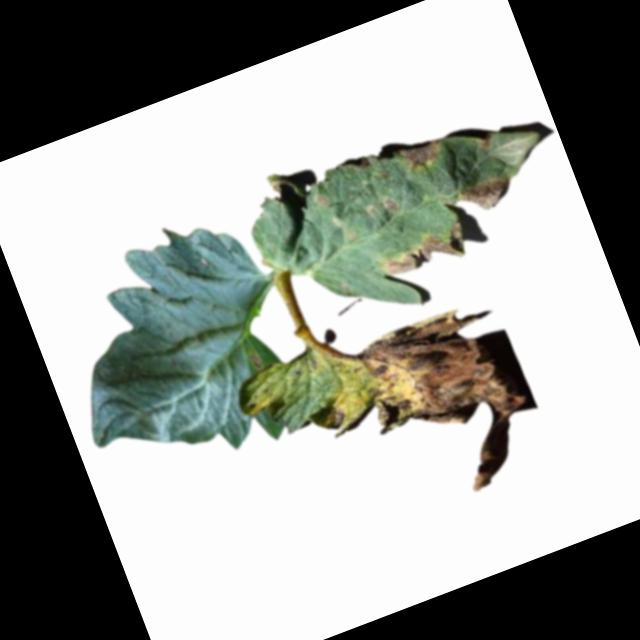Early_blight: (343, 294, 550, 517), (376, 220, 473, 286), (457, 171, 514, 216), (395, 132, 448, 174), (318, 402, 348, 435), (311, 185, 334, 210), (474, 134, 497, 157), (247, 347, 263, 369), (387, 197, 400, 213)
